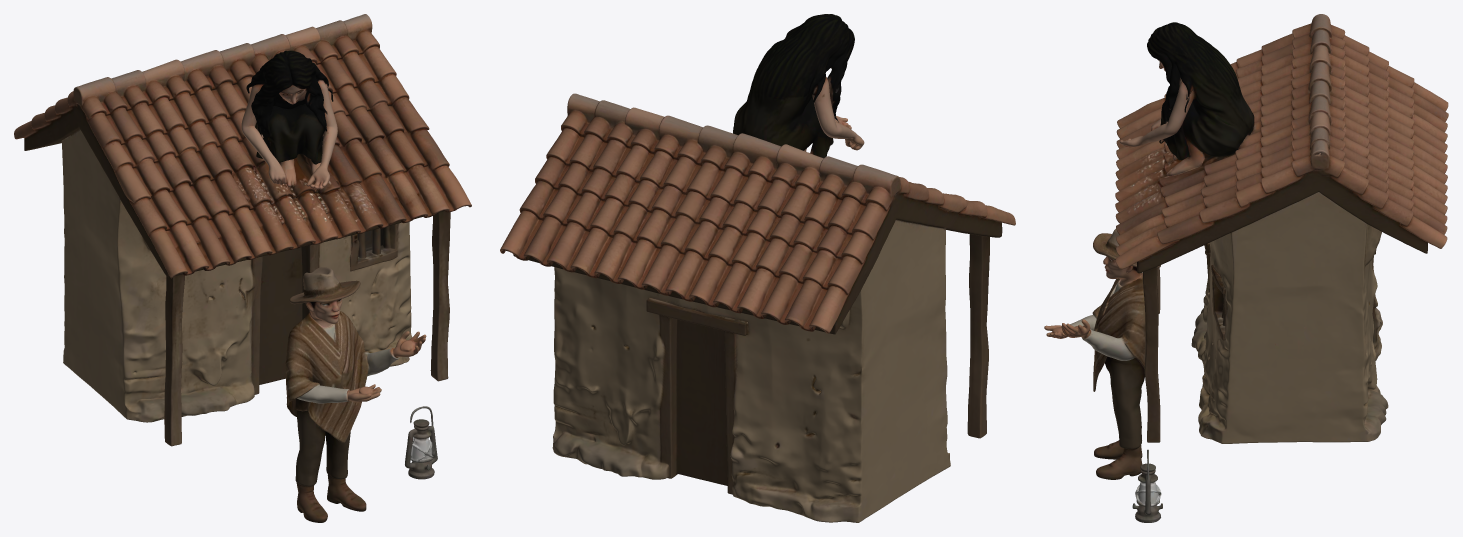
The model's file is 43-la-vecina-en-la-teja-optimized.glb.
3 views of the same model, side by side, from view 1: azimuth 30°, elevation 25°; view 2: azimuth 150°, elevation 25°; view 3: azimuth 270°, elevation 25° (orthographic). The views are drawn at different scales.
Parts seen in each view (by area): view 1: tripo_node_f1c28ade-2c09-4b2c-aa85-90b0c9947bef; view 2: tripo_node_f1c28ade-2c09-4b2c-aa85-90b0c9947bef; view 3: tripo_node_f1c28ade-2c09-4b2c-aa85-90b0c9947bef.
Boxes of the visible parts, x1,y1,x2,y2 form: tripo_node_f1c28ade-2c09-4b2c-aa85-90b0c9947bef: (14, 14, 471, 522); tripo_node_f1c28ade-2c09-4b2c-aa85-90b0c9947bef: (500, 14, 1015, 522); tripo_node_f1c28ade-2c09-4b2c-aa85-90b0c9947bef: (1044, 14, 1448, 522).
Size of the model in its own units: 0.7131 by 1 by 0.8414.
1 material, 1 textured.
